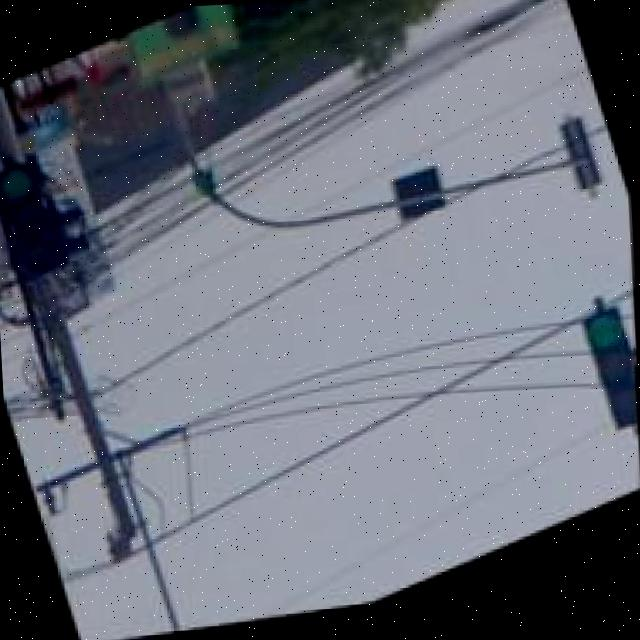green_light: (0, 153, 71, 293), (574, 313, 640, 457)
